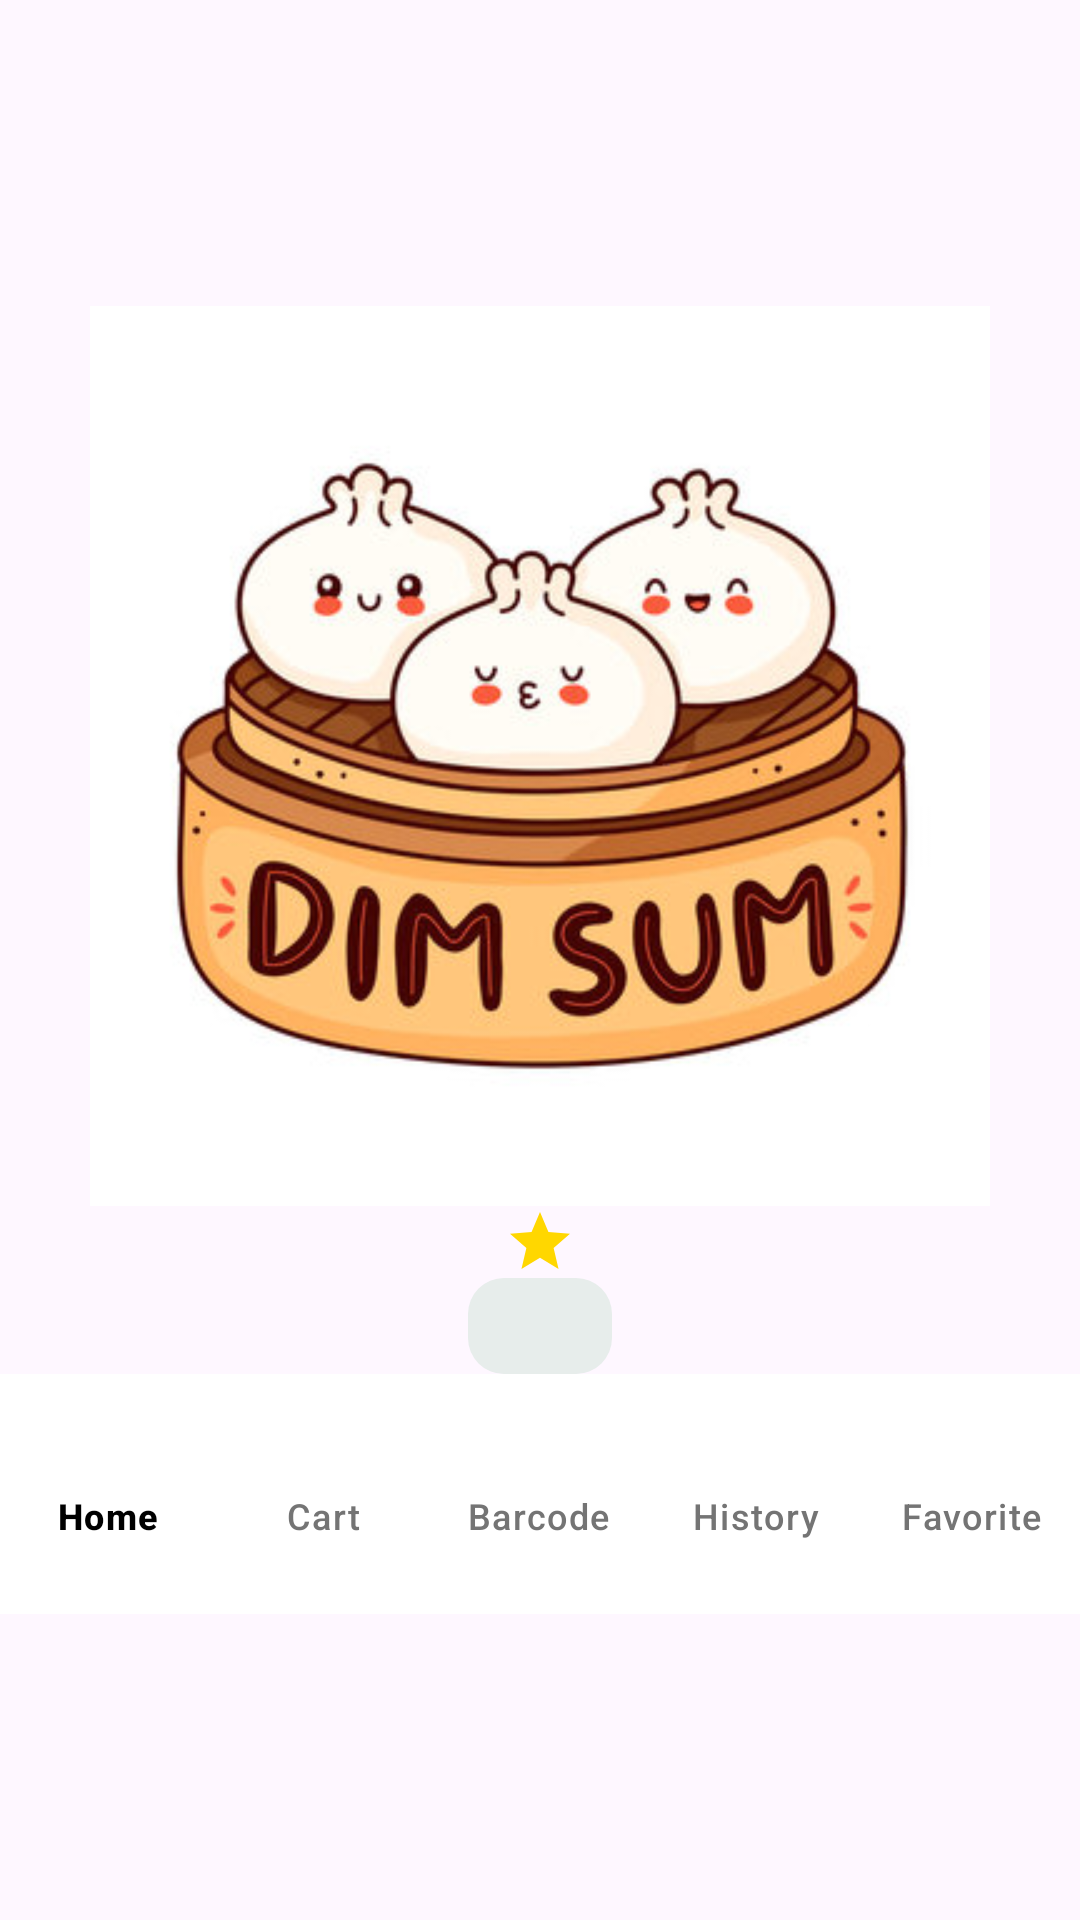

Icons on this 1080*1920 Android screen, each with its box as (x1, y1, x2, y2):
Rotating star: (510, 1212, 570, 1269)
